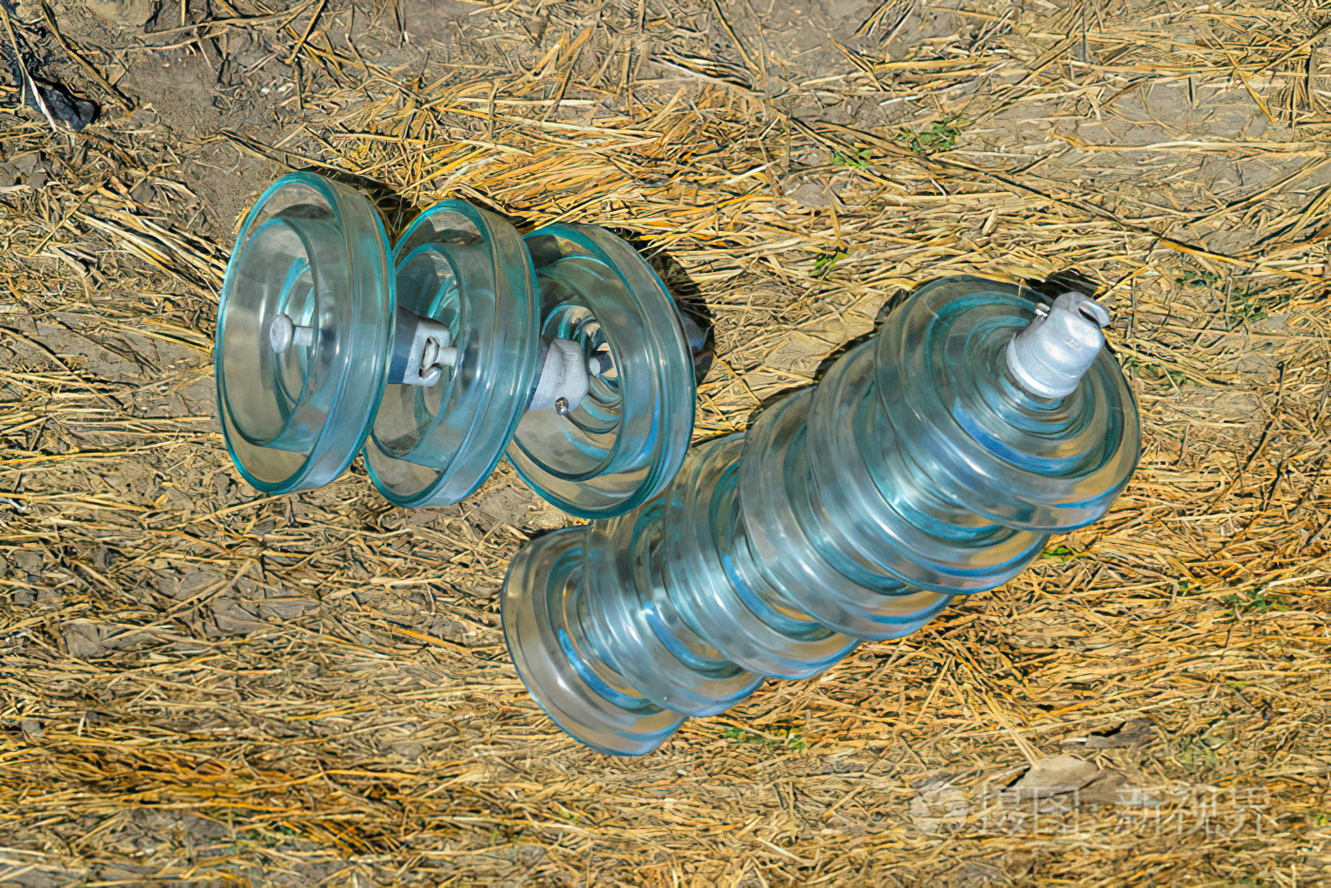insulator: (500, 278, 1142, 755), (220, 166, 696, 515)
